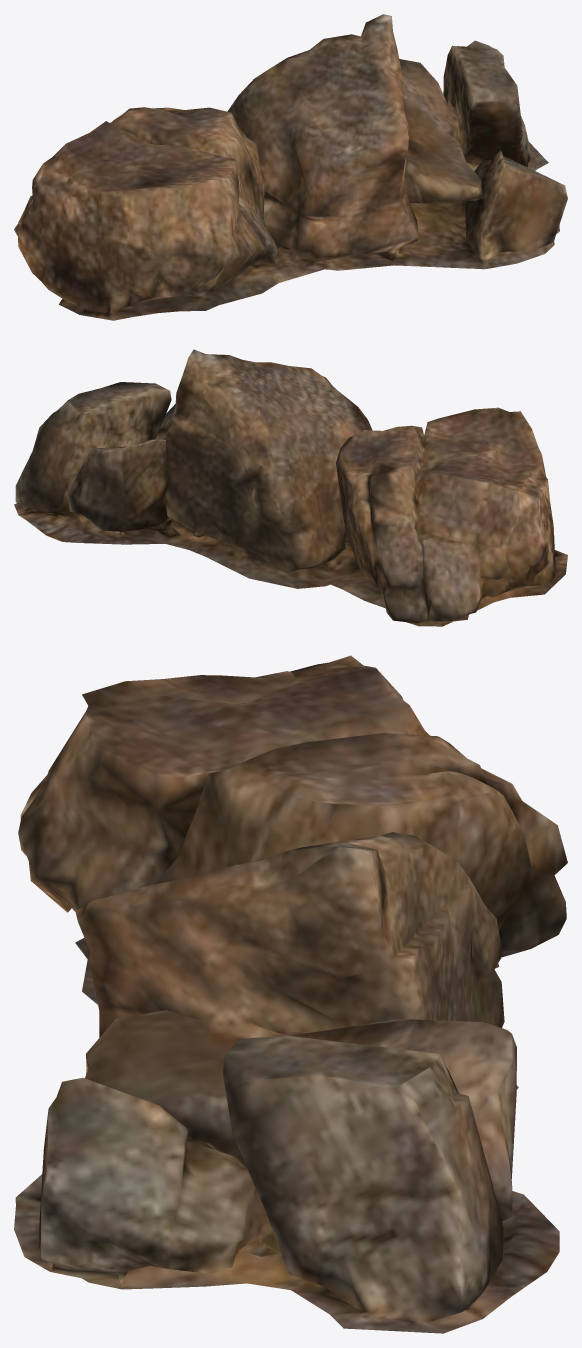
Rendered from boulder_02.glb.
The picture shows the model from 3 angles, top to bottom: view 1: azimuth 30°, elevation 25°; view 2: azimuth 150°, elevation 25°; view 3: azimuth 270°, elevation 25°; orthographic projection. The views are drawn at different scales.
Parts seen in each view (by area): view 1: boulder_02; view 2: boulder_02; view 3: boulder_02.
Boxes of the visible parts, <box> form: boulder_02: <box>14,14,567,320</box>; boulder_02: <box>14,349,567,626</box>; boulder_02: <box>14,655,567,1333</box>.
Size of the model in its own units: 2.51 by 0.8788 by 1.23.
Materials: 1 (1 with a texture image).
